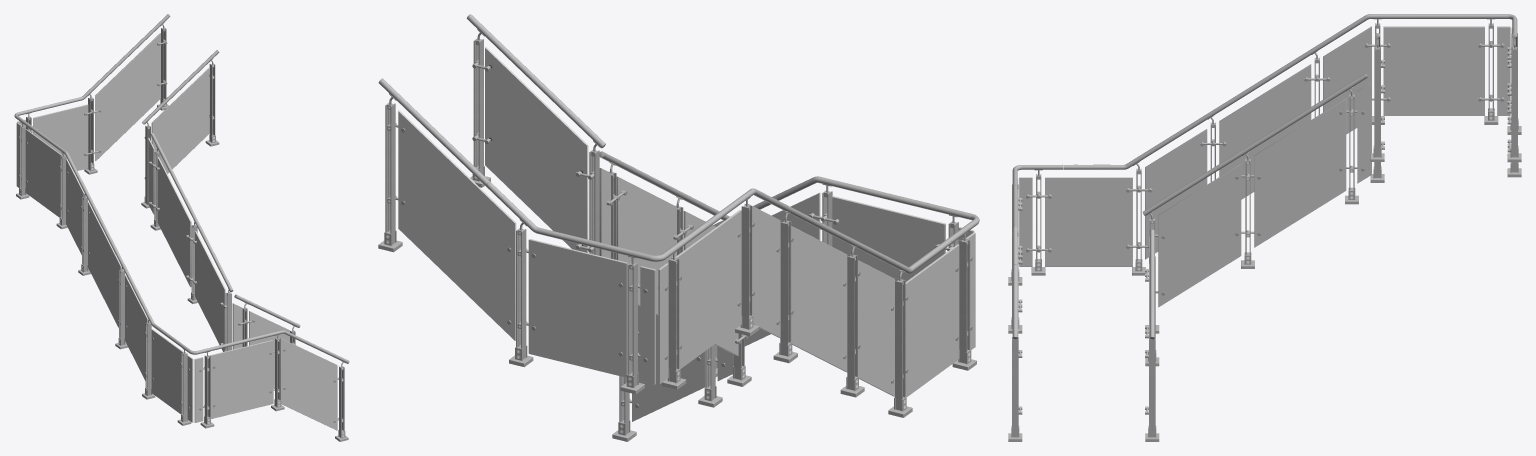
Rendered from U-Shaped_Railing_Ferric_Glass.gltf.
3 renders of one model, left to right at view 1: azimuth 30°, elevation 25°; view 2: azimuth 150°, elevation 25°; view 3: azimuth 270°, elevation 25°, orthographic. The views are drawn at different scales.
Parts seen in each view (by area): view 1: Infill_Glass_Raked & Horizontal Generic [8921262], Infill_Glass_Raked & Horizontal Generic [8922375]001, Infill_Glass_Raked & Horizontal Generic [8902689]004, Infill_Glass_Raked & Horizontal Generic [8902686], Infill_Glass_Raked & Horizontal Generic [8902689]002, Infill_Glass_Raked & Horizontal Generic [8922375], Infill_Glass_Raked & Horizontal Generic [8921264], Infill_Glass_Raked & Horizontal Generic [8921260]001, Infill_Glass_Raked & Horizontal Generic [8902686]001, Infill_Glass_Raked & Horizontal Generic [8921264]001, Infill_Glass_Raked & Horizontal Generic [8921262]001, Infill_Glass_Raked & Horizontal Generic [8902689]001 (+15 smaller); view 2: Infill_Glass_Raked & Horizontal Generic [8921262], Infill_Glass_Raked & Horizontal Generic [8902686], Infill_Glass_Raked & Horizontal Generic [8921264], Infill_Glass_Raked & Horizontal Generic [8922375], Infill_Glass_Raked & Horizontal Generic [8921260]001, Infill_Glass_Raked & Horizontal Generic [8921264]001, Infill_Glass_Raked & Horizontal Generic [8922375]001, Infill_Glass_Raked & Horizontal Generic [8921262]001, Infill_Glass_Raked & Horizontal Generic [8902689]002, Infill_Glass_Raked & Horizontal Generic [8902689]001, Infill_Glass_Raked & Horizontal Generic [8902689]005, Infill_Glass_Raked & Horizontal Generic [8923405] (+28 smaller); view 3: Infill_Glass_Raked & Horizontal Generic [8922375], Infill_Glass_Raked & Horizontal Generic [8902689]002, Infill_Glass_Raked & Horizontal Generic [8921264]001, Infill_Glass_Raked & Horizontal Generic [8902686]001, Infill_Glass_Raked & Horizontal Generic [8921260]001, Infill_Glass_Raked & Horizontal Generic [8921262]001, Infill_Glass_Raked & Horizontal Generic [8902689]001, Nested_Bend Bend [8719267]002, Infill_Glass_Raked & Horizontal Generic [8902689], Infill_Glass_Raked & Horizontal Generic [8923405]001, Infill_Glass_Raked & Horizontal Generic [8923304], Nested_Rail LS Material [8719249] (+7 smaller).
Part boxes in pixels (x1,y1,x2,y2): Infill_Glass_Raked & Horizontal Generic [8921262]: (95,33,160,160); Infill_Glass_Raked & Horizontal Generic [8922375]001: (210,340,273,418); Infill_Glass_Raked & Horizontal Generic [8902689]004: (280,338,337,430); Infill_Glass_Raked & Horizontal Generic [8902686]: (151,68,209,173); Infill_Glass_Raked & Horizontal Generic [8902689]002: (157,157,191,287); Infill_Glass_Raked & Horizontal Generic [8922375]: (25,129,62,217); Infill_Glass_Raked & Horizontal Generic [8921264]: (33,104,88,170); Infill_Glass_Raked & Horizontal Generic [8921260]001: (88,201,121,327); Infill_Glass_Raked & Horizontal Generic [8902686]001: (195,231,225,351); Infill_Glass_Raked & Horizontal Generic [8921264]001: (151,329,183,413); Infill_Glass_Raked & Horizontal Generic [8921262]001: (125,275,148,380); Infill_Glass_Raked & Horizontal Generic [8902689]001: (66,158,84,254); Infill_Glass_Raked & Horizontal Generic [8921262]: (398,110,516,340); Infill_Glass_Raked & Horizontal Generic [8902686]: (485,47,588,252); Infill_Glass_Raked & Horizontal Generic [8921264]: (528,239,627,377); Infill_Glass_Raked & Horizontal Generic [8922375]: (675,210,741,368); Infill_Glass_Raked & Horizontal Generic [8921260]001: (791,226,847,372); Infill_Glass_Raked & Horizontal Generic [8921264]001: (905,244,959,396); Infill_Glass_Raked & Horizontal Generic [8922375]001: (832,196,945,281); Infill_Glass_Raked & Horizontal Generic [8921262]001: (858,260,894,396); Infill_Glass_Raked & Horizontal Generic [8902689]002: (616,176,676,315); Infill_Glass_Raked & Horizontal Generic [8902689]001: (748,204,780,338); Infill_Glass_Raked & Horizontal Generic [8902689]005: (632,305,705,421); Infill_Glass_Raked & Horizontal Generic [8923405]: (640,266,655,384); Infill_Glass_Raked & Horizontal Generic [8922375]: (1383,26,1484,115); Infill_Glass_Raked & Horizontal Generic [8902689]002: (1254,98,1346,247); Infill_Glass_Raked & Horizontal Generic [8921264]001: (1045,177,1132,266); Infill_Glass_Raked & Horizontal Generic [8902686]001: (1158,164,1241,307); Infill_Glass_Raked & Horizontal Generic [8921260]001: (1219,64,1311,199); Infill_Glass_Raked & Horizontal Generic [8921262]001: (1145,129,1207,259); Infill_Glass_Raked & Horizontal Generic [8902689]001: (1323,26,1371,134); Nested_Bend Bend [8719267]002: (1143,74,1367,215); Infill_Glass_Raked & Horizontal Generic [8902689]: (1357,82,1371,183); Infill_Glass_Raked & Horizontal Generic [8923405]001: (1019,177,1032,266); Infill_Glass_Raked & Horizontal Generic [8923304]: (1497,26,1510,115); Nested_Rail LS Material [8719249]: (1167,36,1333,142).
Bounding box in the file's own units: 1.99 × 3.48 × 3.95.
